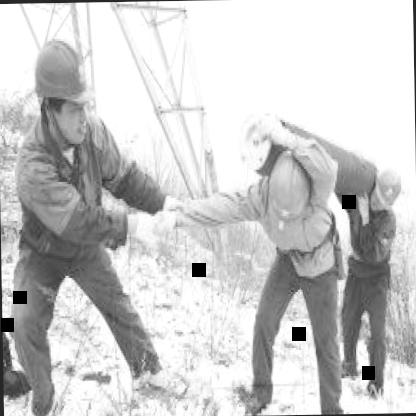helmet: (28, 27, 96, 152), (270, 148, 316, 232), (372, 160, 404, 214)
